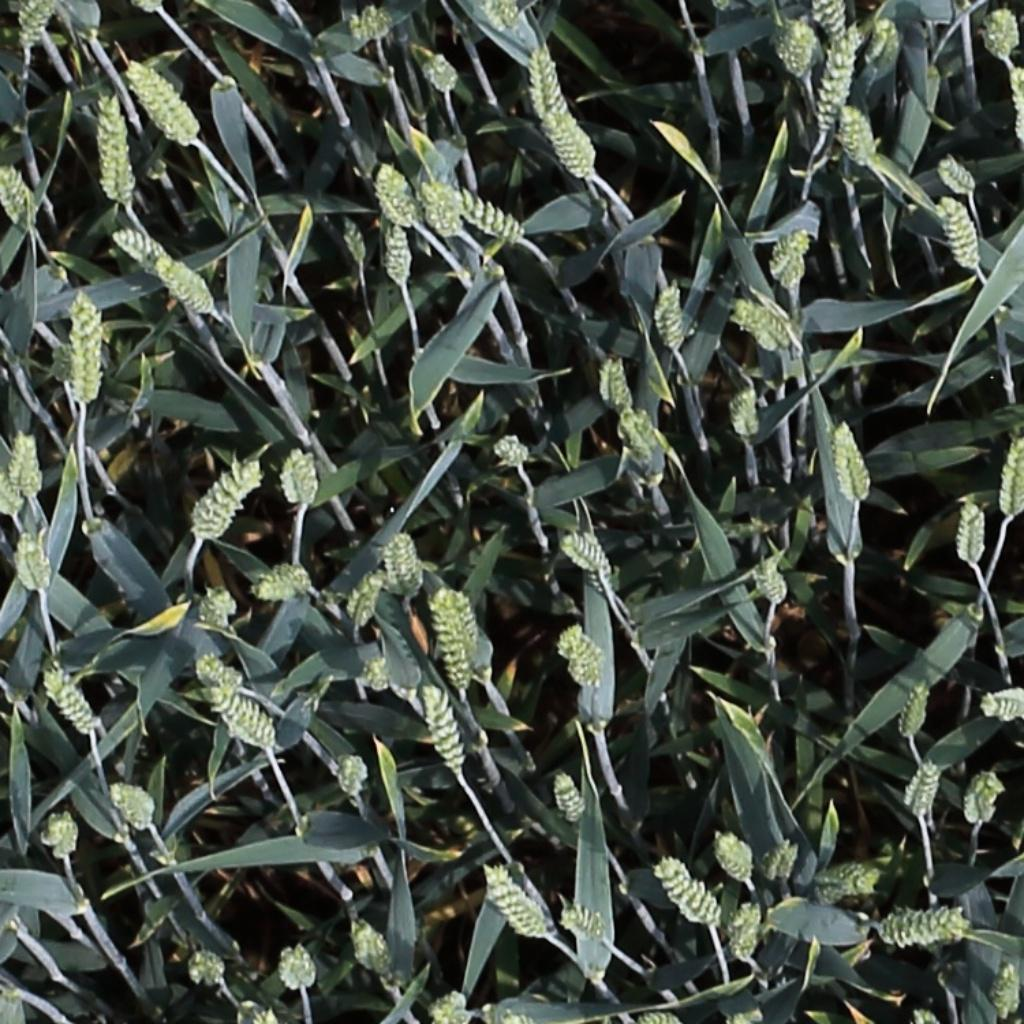0-0: (432, 588, 499, 694), (189, 453, 267, 544), (125, 57, 202, 144), (816, 24, 866, 136), (481, 861, 550, 940), (434, 180, 527, 238), (656, 857, 724, 928), (878, 902, 982, 948), (66, 288, 107, 404), (420, 687, 471, 780), (39, 664, 99, 742), (204, 686, 277, 750), (108, 225, 183, 286), (540, 106, 595, 181), (153, 258, 218, 317), (99, 88, 131, 207), (374, 154, 423, 230), (346, 914, 398, 984), (834, 416, 873, 507), (274, 447, 333, 506), (529, 40, 566, 132), (561, 621, 606, 696), (815, 861, 884, 909), (617, 404, 664, 472), (735, 297, 795, 350), (839, 96, 882, 169), (345, 565, 389, 634), (419, 174, 464, 241), (772, 222, 813, 292), (714, 830, 759, 890), (906, 756, 944, 826), (0, 158, 35, 233), (107, 782, 157, 834), (899, 675, 935, 746), (965, 767, 1003, 832), (383, 520, 414, 599), (730, 897, 764, 969), (597, 350, 632, 418), (16, 527, 49, 599), (552, 768, 589, 832), (999, 430, 1024, 522), (952, 495, 984, 566), (866, 12, 902, 75), (13, 0, 55, 53), (765, 835, 804, 891), (338, 208, 372, 271), (561, 533, 610, 576), (786, 13, 816, 83), (659, 277, 686, 354), (12, 427, 39, 503), (195, 655, 245, 696), (759, 548, 791, 611), (386, 214, 412, 290), (421, 46, 460, 96), (281, 939, 315, 996), (987, 2, 1017, 66), (734, 378, 761, 447), (936, 151, 980, 193), (993, 957, 1021, 1022), (815, 0, 850, 51), (0, 450, 24, 521), (197, 588, 234, 634), (49, 811, 77, 868), (1005, 63, 1024, 144), (338, 750, 365, 806), (189, 948, 226, 988), (982, 685, 1024, 720), (364, 651, 393, 699), (562, 910, 608, 940), (431, 988, 468, 1024), (487, 0, 524, 35), (495, 436, 531, 464), (630, 1009, 683, 1024), (128, 0, 166, 17)
